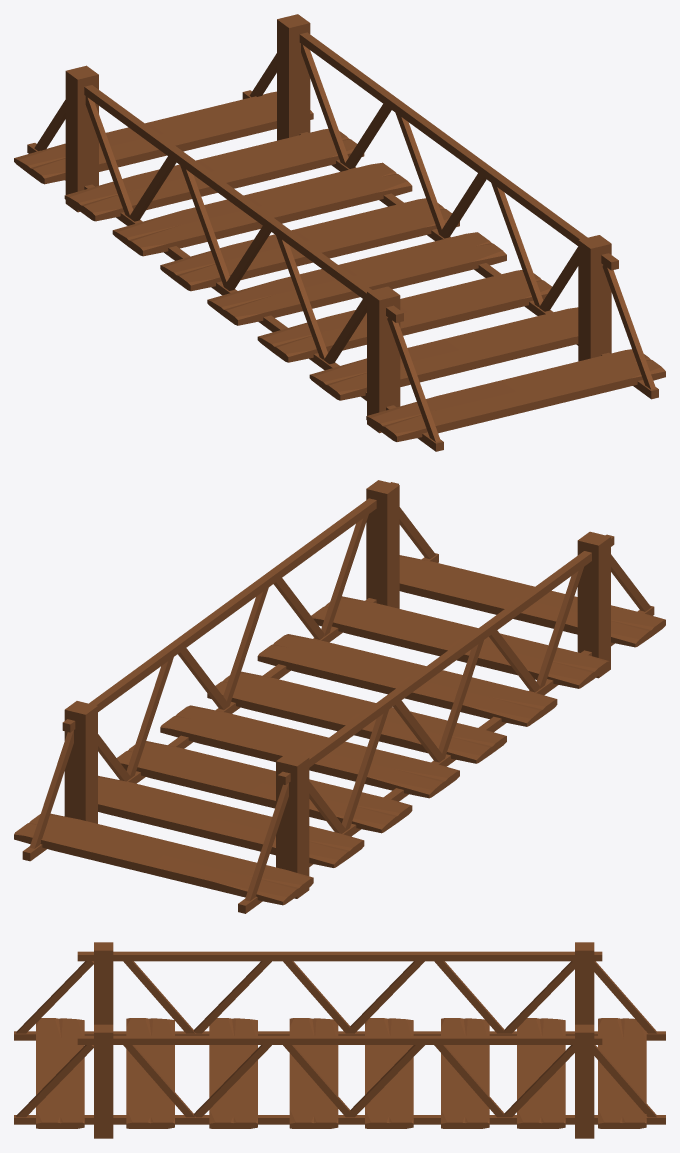
The model's file is bridge_beam.fbx.
3 views of the same model, one above another, from view 1: azimuth 30°, elevation 25°; view 2: azimuth 150°, elevation 25°; view 3: azimuth 270°, elevation 25° (orthographic). The views are drawn at different scales.
Parts seen in each view (by area): view 1: Cube.009, Cube.025, Cube.028, Cube.026, Cube.017, Cube.033, Cube.029, Cube.006, Rails 2, Rails 1, Cube.004, Cube.005 (+18 smaller); view 2: Cube.006, Cube.029, Cube.026, Cube.033, Cube.028, Cube.017, Cube.025, Cube.009, Rails 2, Rails 1, Cube.004, Cube.005 (+17 smaller); view 3: Rails 2, Rails 1, Cube.009, Cube.006, Cube.028, Cube.033, Cube.026, Cube.029, Cube.025, Cube.017, Cube.001, Cube.004 (+20 smaller).
Part boxes in pixels (left/top/right/bottom): Cube.009: left=366, top=349, right=665, bottom=441; Cube.025: left=112, top=162, right=412, bottom=256; Cube.028: left=207, top=232, right=506, bottom=325; Cube.026: left=160, top=198, right=459, bottom=291; Cube.017: left=64, top=128, right=364, bottom=221; Cube.033: left=309, top=307, right=578, bottom=400; Cube.029: left=257, top=270, right=551, bottom=362; Cube.006: left=14, top=91, right=313, bottom=184; Rails 2: left=84, top=85, right=403, bottom=322; Rails 1: left=299, top=32, right=618, bottom=270; Cube.004: left=578, top=235, right=611, bottom=361; Cube.005: left=367, top=286, right=400, bottom=433; Cube.006: left=14, top=813, right=313, bottom=905; Cube.029: left=257, top=634, right=557, bottom=726; Cube.026: left=160, top=705, right=459, bottom=798; Cube.033: left=311, top=596, right=609, bottom=688; Cube.028: left=207, top=671, right=506, bottom=763; Cube.017: left=98, top=775, right=364, bottom=867; Cube.025: left=117, top=741, right=412, bottom=833; Cube.009: left=399, top=555, right=665, bottom=647; Rails 2: left=278, top=534, right=614, bottom=784; Rails 1: left=62, top=482, right=398, bottom=732; Cube.004: left=366, top=480, right=399, bottom=608; Cube.005: left=577, top=531, right=610, bottom=678; Rails 2: left=77, top=951, right=602, bottom=961; Rails 1: left=77, top=1035, right=602, bottom=1044; Cube.009: left=36, top=1018, right=84, bottom=1128; Cube.006: left=598, top=1018, right=646, bottom=1128; Cube.028: left=289, top=1018, right=338, bottom=1128; Cube.033: left=126, top=1018, right=174, bottom=1128; Cube.026: left=365, top=1018, right=413, bottom=1128; Cube.029: left=209, top=1018, right=257, bottom=1128; Cube.025: left=441, top=1018, right=489, bottom=1128; Cube.017: left=517, top=1018, right=565, bottom=1128; Cube.001: left=575, top=1024, right=594, bottom=1138; Cube.004: left=94, top=1024, right=113, bottom=1138.
Bounding box in the file's own units: 255 × 120 × 670.
